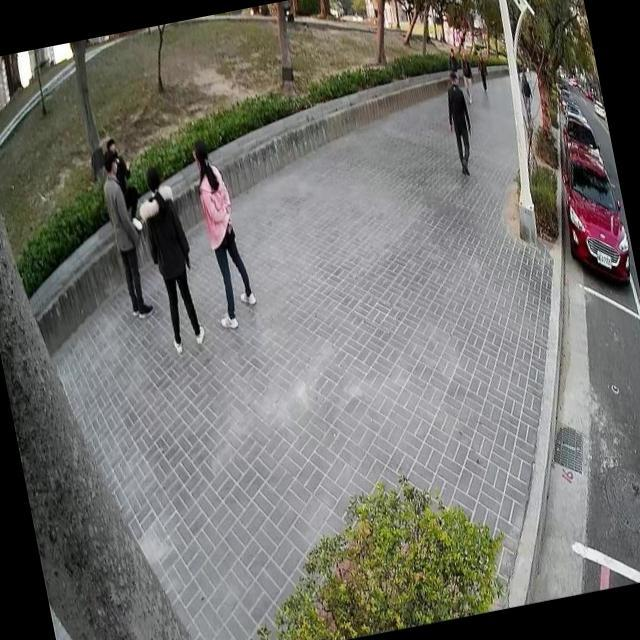person: (127, 158, 212, 358), (180, 129, 262, 333), (91, 140, 158, 325), (435, 64, 482, 178), (102, 130, 148, 233), (455, 46, 479, 106), (516, 70, 538, 122), (442, 46, 464, 87), (472, 48, 491, 92)
